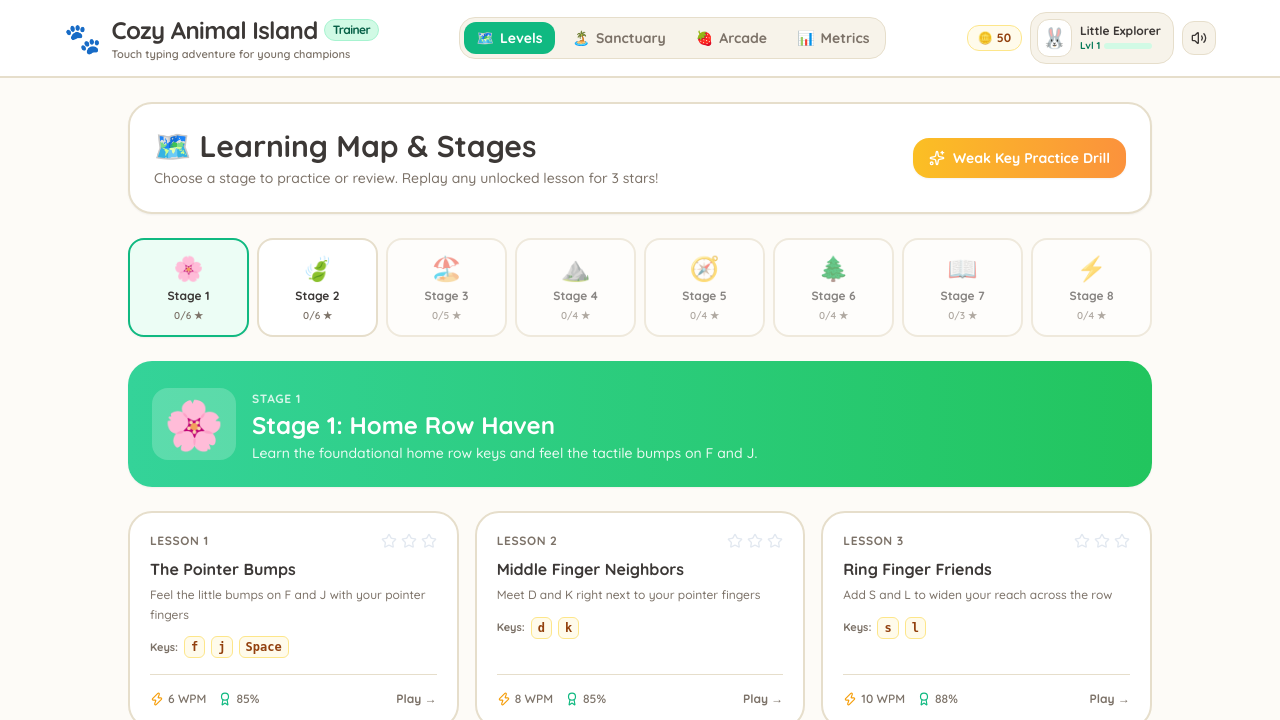
Scenario: App Component › navigates to Arcade view when clicking Arcade tab
What coordinates should you click on to do the following:
click the button "🍓 Arcade"
I would click on:
 (731, 38)
Its box is [684,22,779,54].
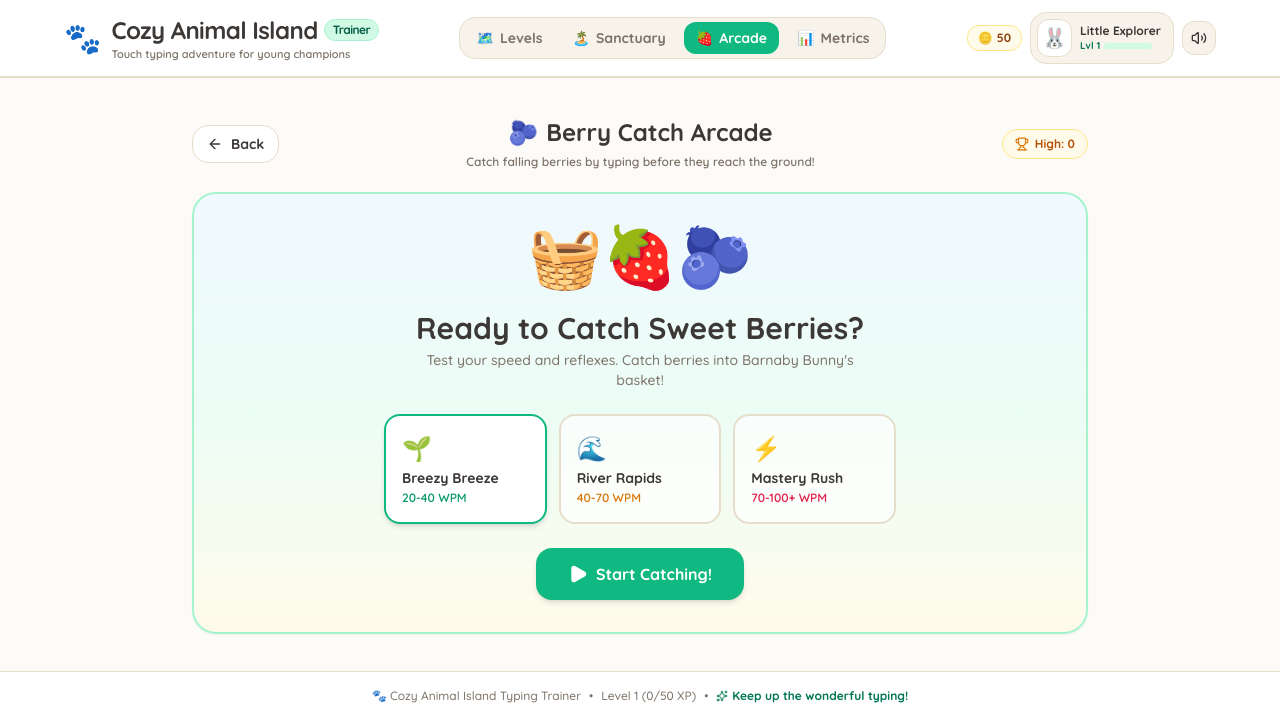
Result: the heading "🫐 Berry Catch Arcade" is shown at [508,116,773,146]
Result: the text "Breezy Breeze" is shown at [402,468,499,486]
